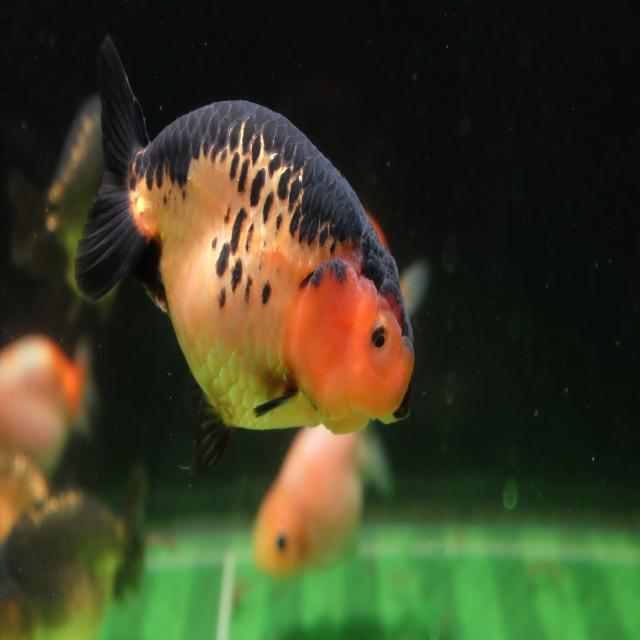Goldfish: (74, 34, 417, 481), (253, 420, 392, 586)
